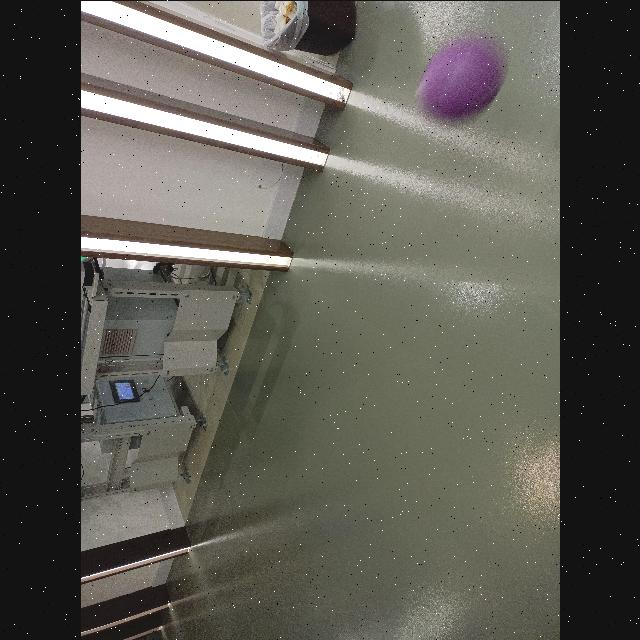P: (416, 36, 506, 132)
